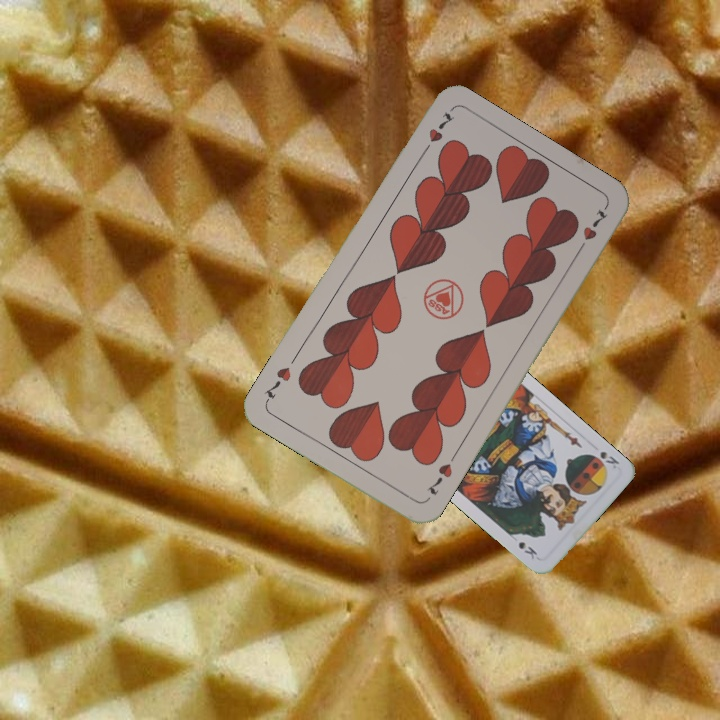H7: (416, 107, 457, 159), (422, 459, 455, 498)
SK: (596, 447, 622, 471)
